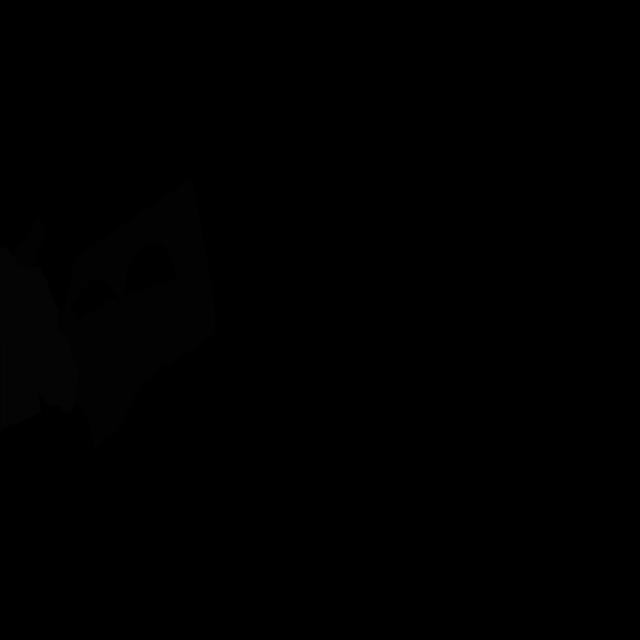cardboard: (64, 180, 216, 367), (57, 278, 188, 452), (14, 218, 45, 267)
soft_plastic: (0, 246, 80, 432)
